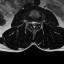CCS_normal: (33, 19, 35, 30)
LFS_stenosis: (37, 19, 40, 26)
LLS_stenosis: (35, 19, 37, 27)
RFS_normal: (28, 18, 30, 26)
RLS_normal: (30, 19, 33, 27)
